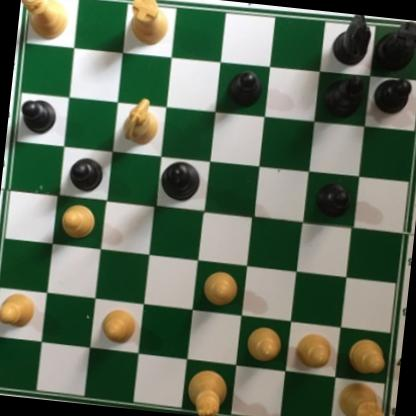black-bishop: (316, 68, 364, 119)
black-king: (157, 159, 204, 205)
black-knight: (330, 13, 375, 70)
black-pawn: (371, 73, 415, 116), (16, 96, 59, 136), (223, 67, 263, 110), (66, 154, 106, 194), (313, 180, 351, 220)
black-rook: (372, 18, 416, 76)
white-king: (183, 367, 230, 416)
white-knight: (118, 88, 162, 148)
white-pawn: (341, 335, 388, 379), (0, 284, 40, 331), (96, 305, 139, 345), (199, 269, 240, 310), (294, 331, 333, 372), (244, 325, 284, 363), (58, 203, 97, 241)
white-queen: (18, 0, 72, 41)
white-rook: (122, 0, 170, 50), (332, 377, 389, 416)
